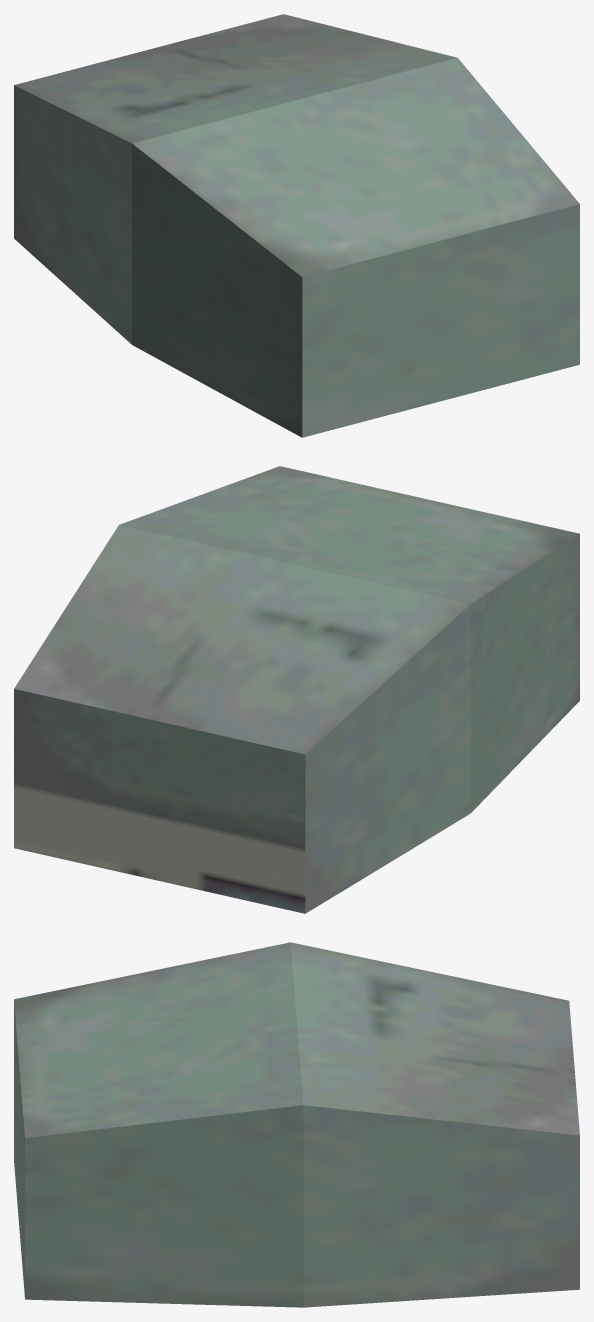
File: computer_mouse.fbx
The picture shows the model from 3 angles, top to bottom: view 1: azimuth 30°, elevation 25°; view 2: azimuth 150°, elevation 25°; view 3: azimuth 270°, elevation 25°; orthographic projection. The views are drawn at different scales.
Visible parts, largest first — view 1: computer_mouse; view 2: computer_mouse; view 3: computer_mouse.
Boxes of the visible parts, <box> form: computer_mouse: <box>14,14,579,437</box>; computer_mouse: <box>14,466,579,913</box>; computer_mouse: <box>14,942,579,1307</box>.
Bounding box in the file's own units: 7.39 × 4.29 × 10.86.
Materials: 1 (1 with a texture image).
